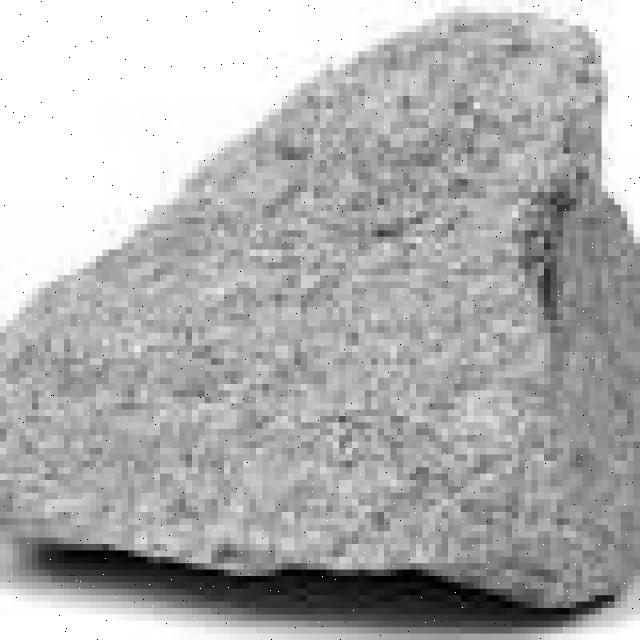Metamorphic: (6, 6, 634, 621)
